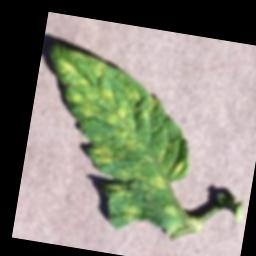Leaf_Mold: (24, 39, 207, 237)
